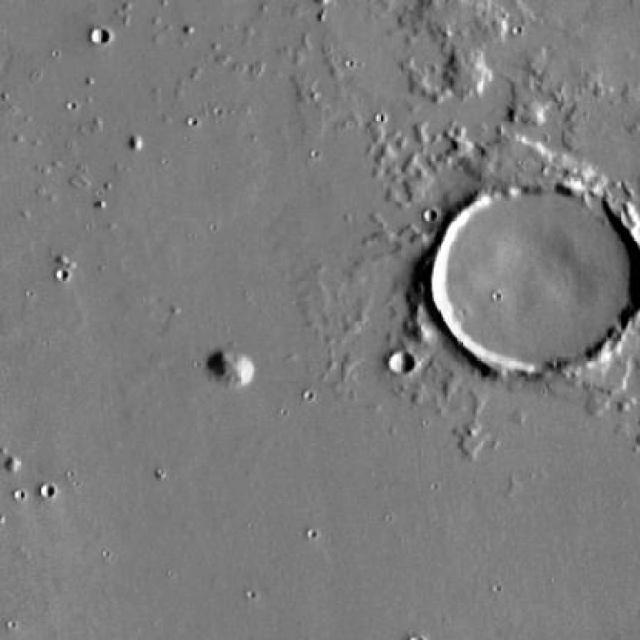crater: (428, 178, 632, 368), (390, 350, 412, 372), (90, 29, 108, 46)
